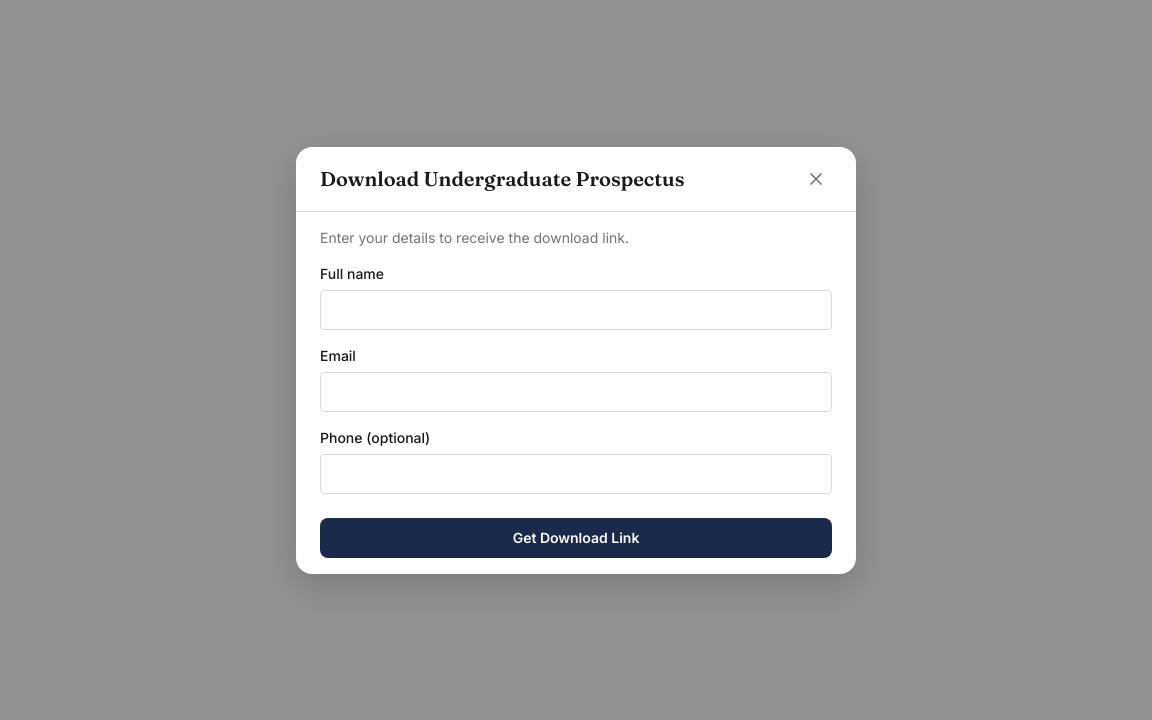
Scenario: RequestDownloadModal › shows a toast and does not open a URL when the request fails server-side
Type "Jane Doe" into the field labelled "Full name". click: (576, 310)
box: 320,290 -> 832,330
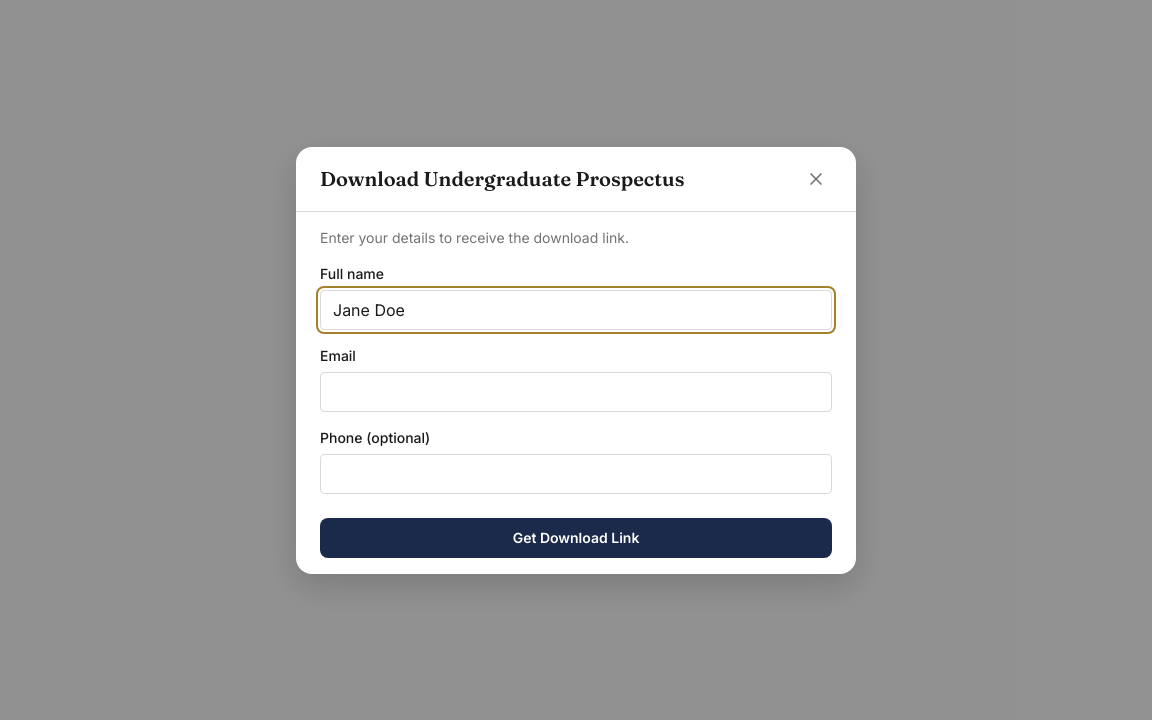
Type "jane@example.com" into the field labelled "Email". click: (576, 392)
box: 320,372 -> 832,412
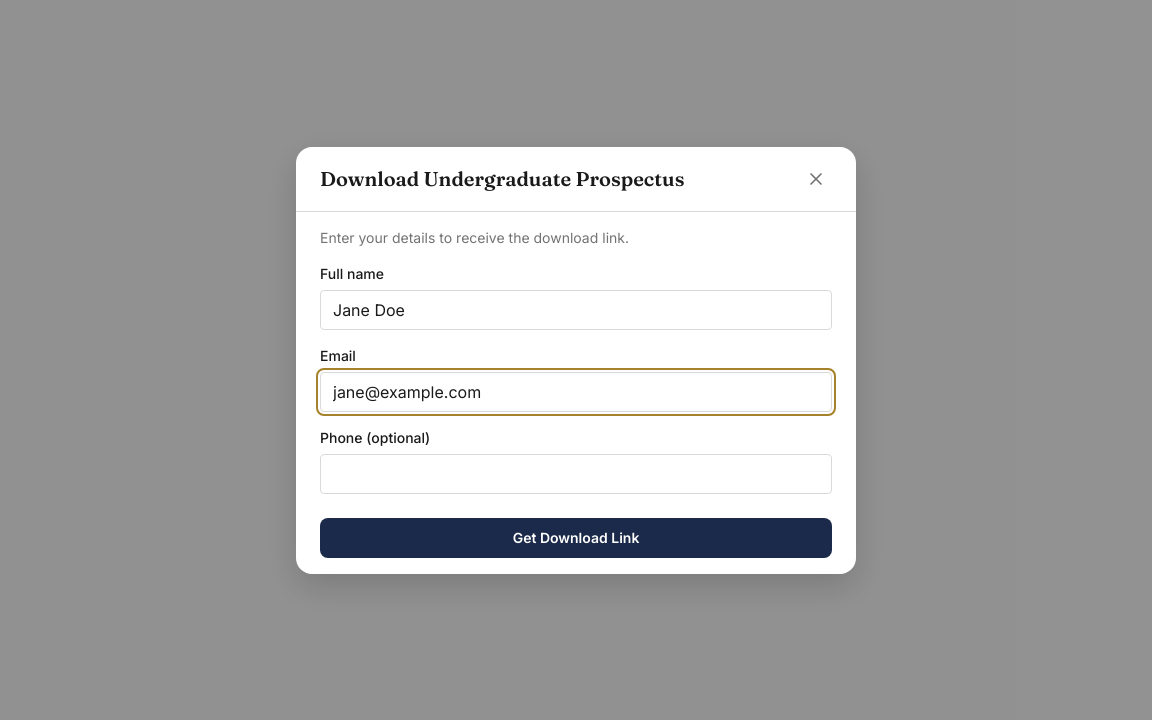
Click the button "Get Download Link". click: (576, 538)
box: 320,518 -> 832,558
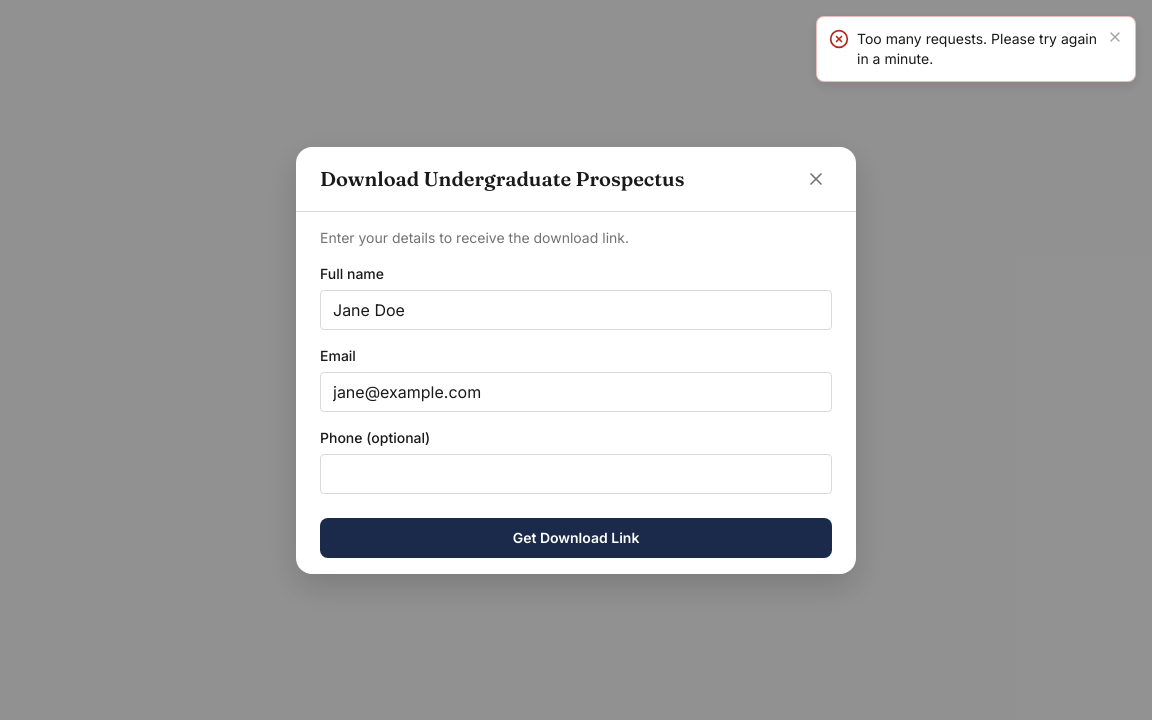
Now the message reads "Too many requests. Please try again in a minute.", box 857,30 -> 1097,67
